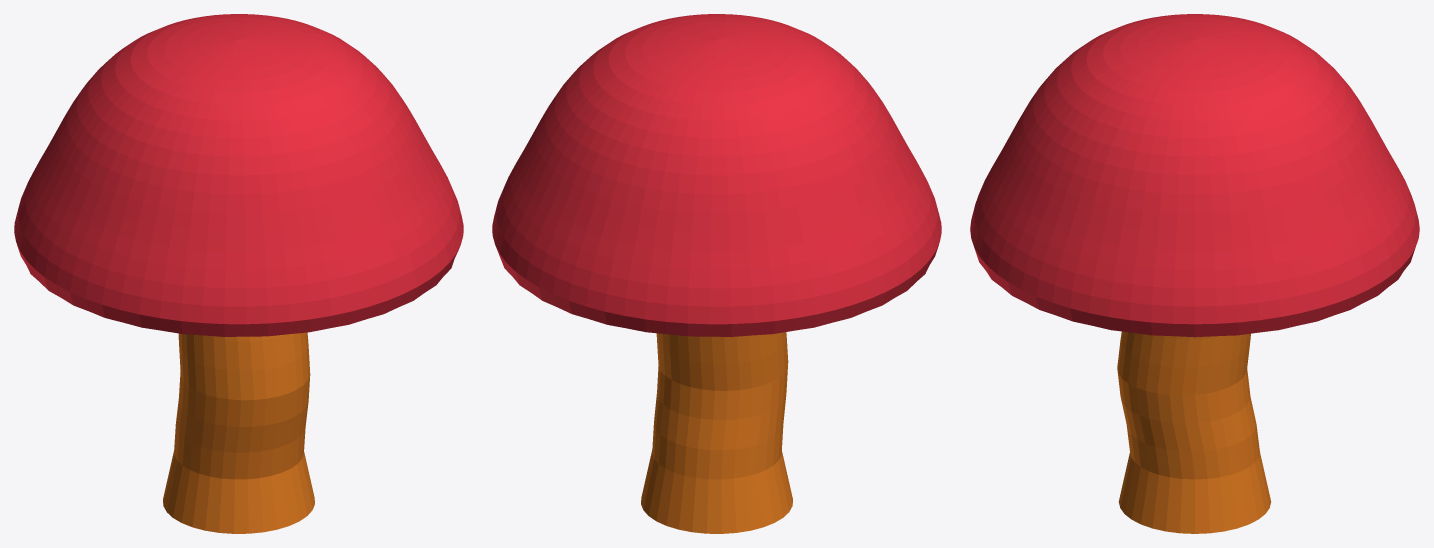
File: Cogumelo1.fbx
The picture shows the model from 3 angles, left to right: view 1: azimuth 30°, elevation 25°; view 2: azimuth 150°, elevation 25°; view 3: azimuth 270°, elevation 25°; orthographic projection.
Parts seen in each view (by area): view 1: Cogumelo1; view 2: Cogumelo1; view 3: Cogumelo1.
Boxes of the visible parts, x1,y1,x2,y2 form: Cogumelo1: (14, 14, 463, 533); Cogumelo1: (492, 14, 941, 533); Cogumelo1: (970, 14, 1419, 533).
Size of the model in its own units: 1244 by 1410 by 1244.
